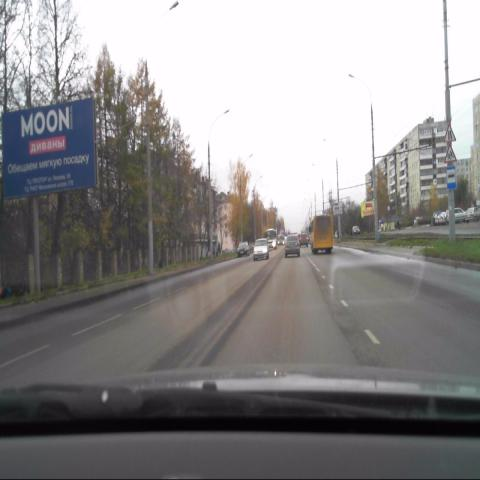1_20_2: (444, 123, 456, 143)
